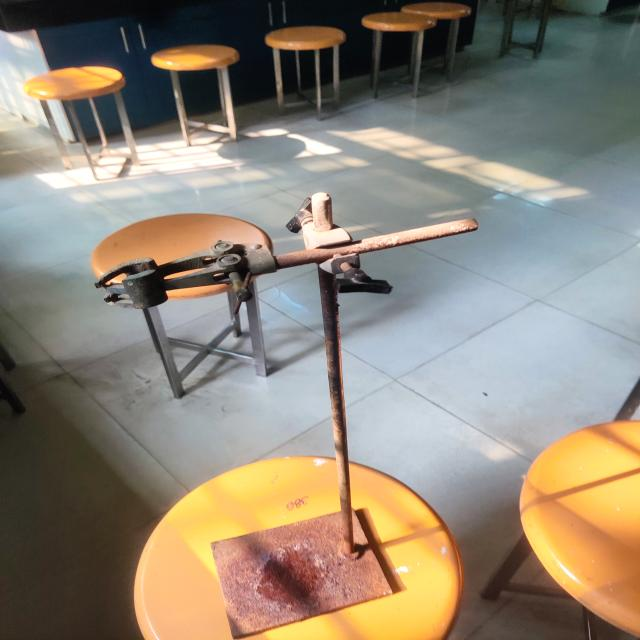Burette_Stands: (89, 183, 506, 640)
